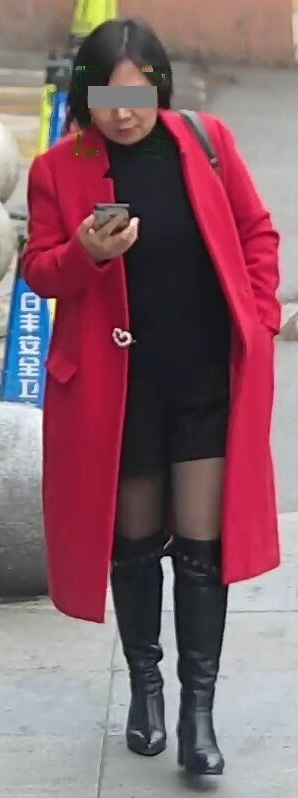phone: (88, 198, 132, 230)
